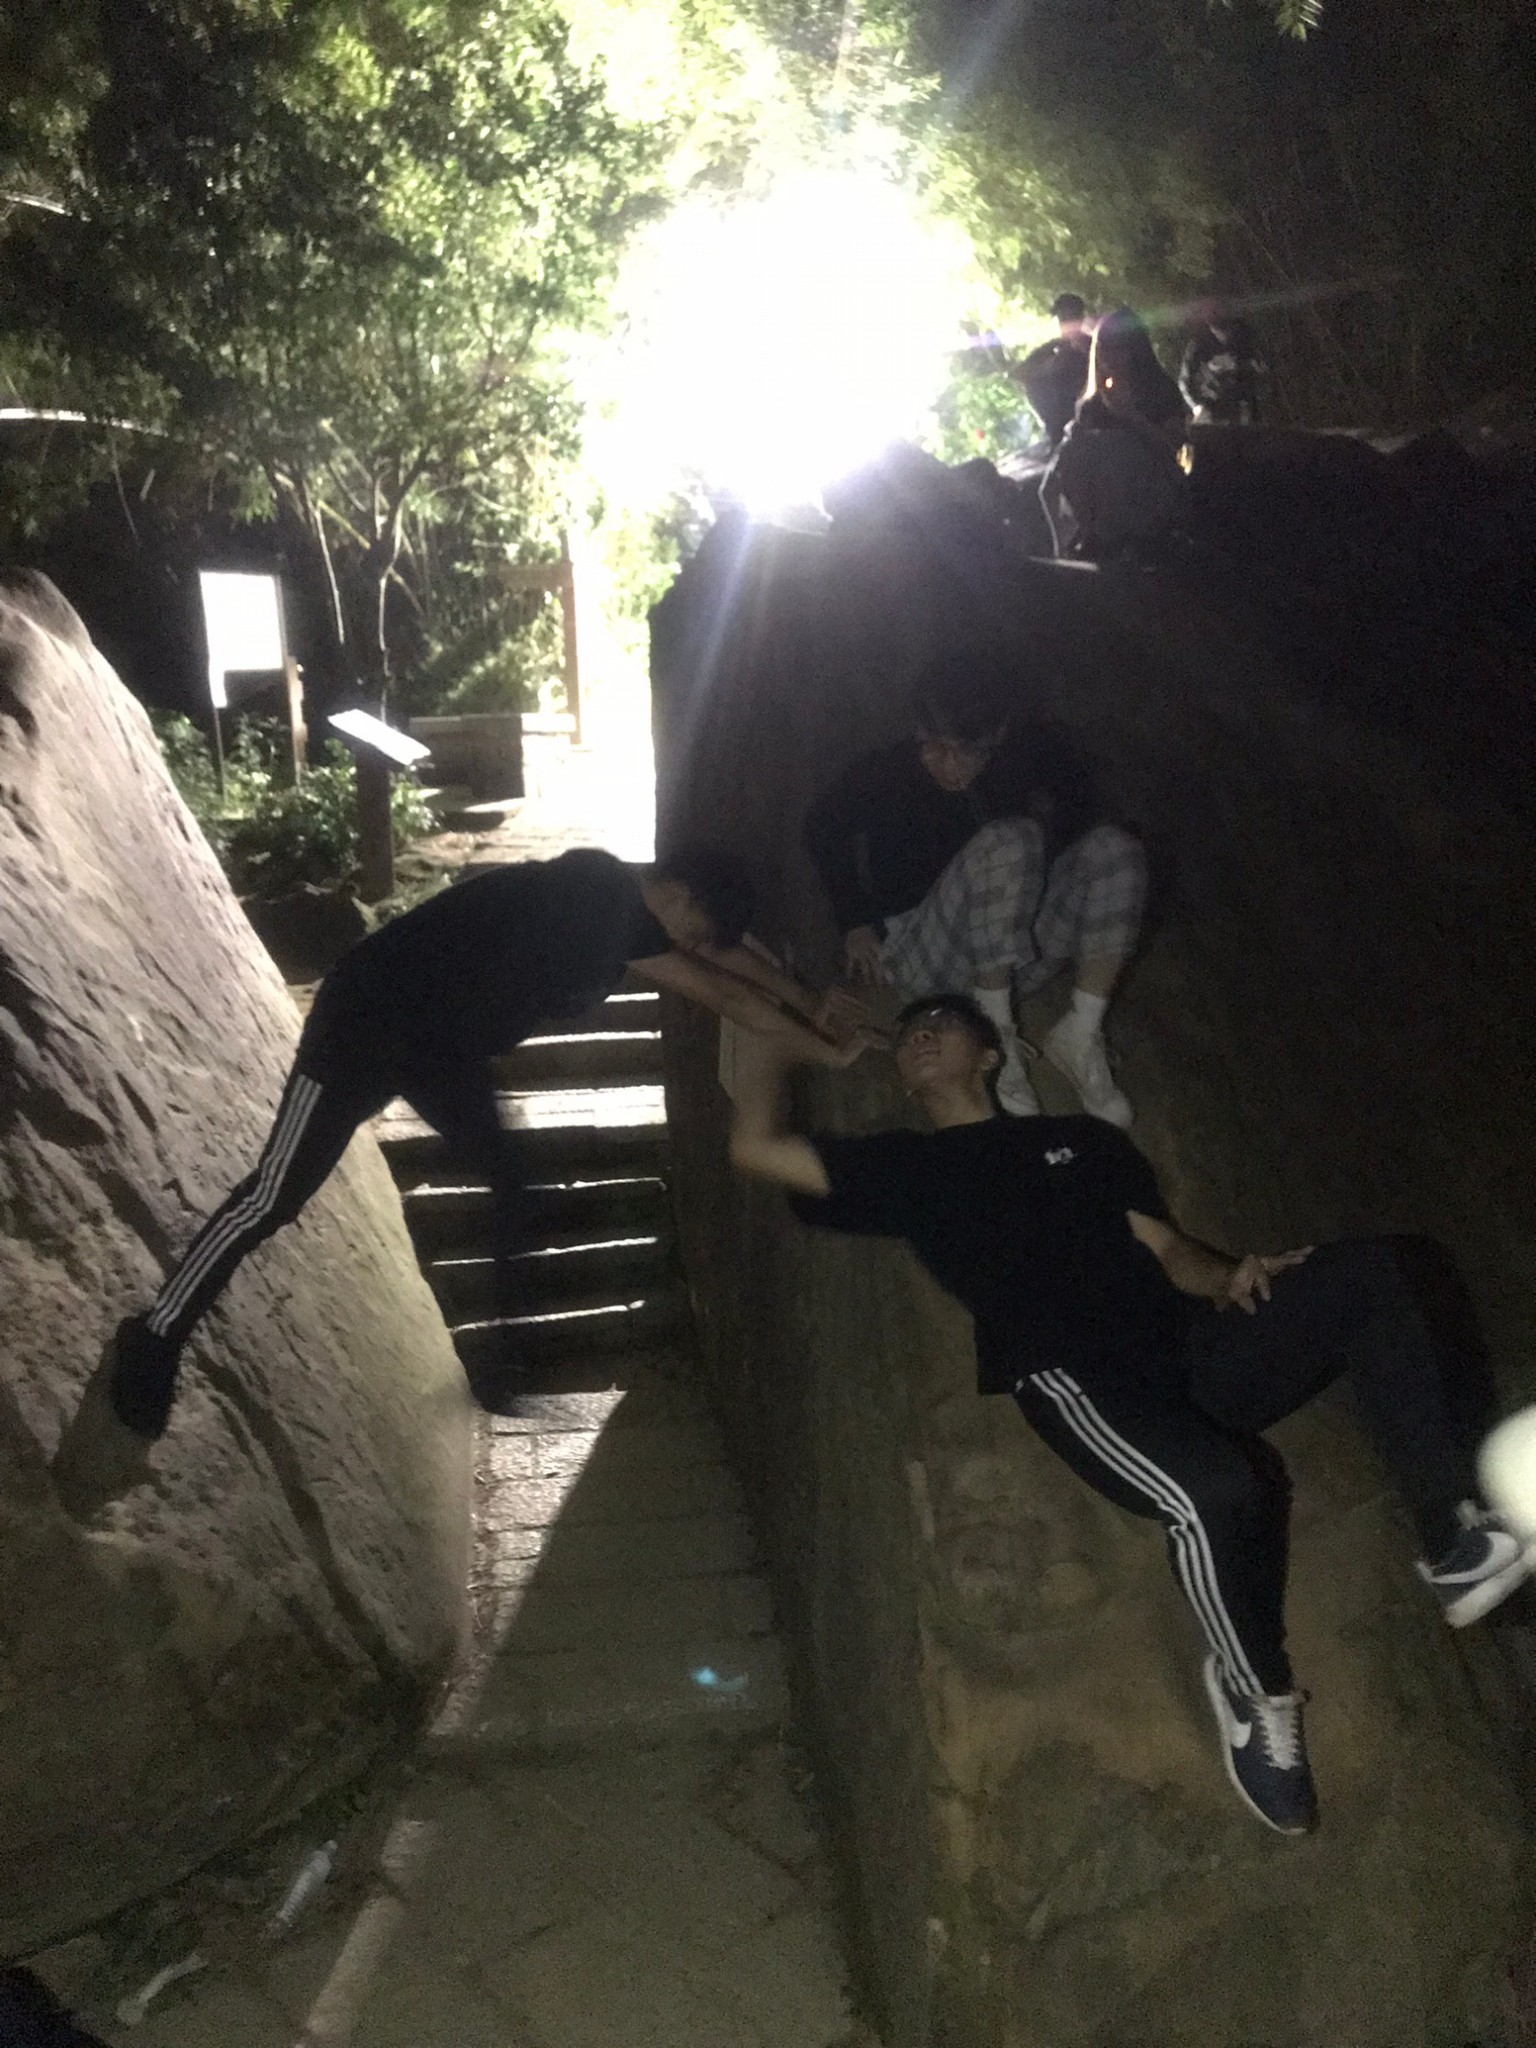people: (844, 1018, 1431, 1660), (227, 805, 715, 1380), (876, 689, 1127, 1060), (1076, 331, 1189, 528), (1011, 286, 1098, 383), (1202, 299, 1266, 402)
